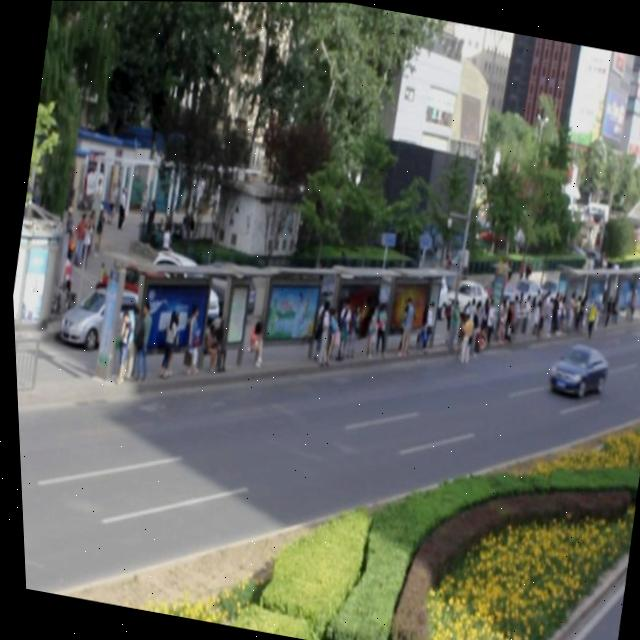car: (542, 337, 608, 398)
